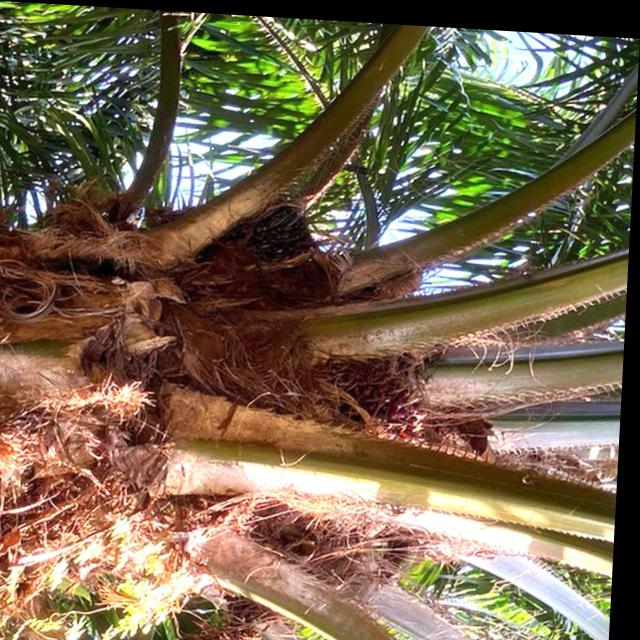ripe: (320, 346, 434, 440)
